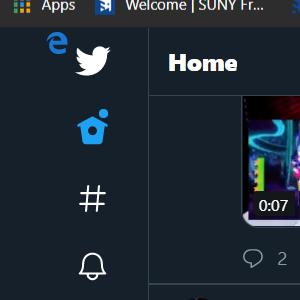edge: (46, 31, 68, 54)
